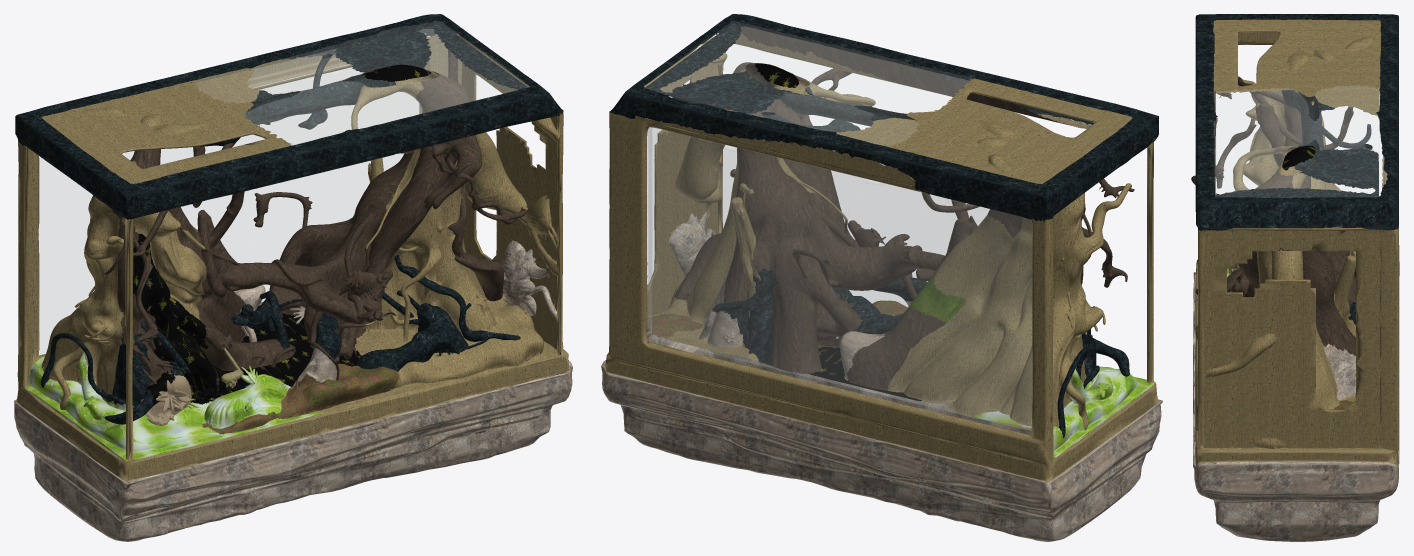
File: 生態箱.glb
The picture shows the model from 3 angles, left to right: view 1: azimuth 30°, elevation 25°; view 2: azimuth 150°, elevation 25°; view 3: azimuth 270°, elevation 25°; orthographic projection. The views are drawn at different scales.
Visible parts, largest first — view 1: tripo_part_0, tripo_part_2, tripo_part_1, tripo_part_9, tripo_part_5, tripo_part_7, tripo_part_42, tripo_part_6, tripo_part_3, tripo_part_18, tripo_part_11, tripo_part_35 (+32 smaller); view 2: tripo_part_1, tripo_part_31, tripo_part_0, tripo_part_3, tripo_part_40, tripo_part_2, tripo_part_49, tripo_part_9, tripo_part_42, tripo_part_18, tripo_part_7, tripo_part_16 (+25 smaller); view 3: tripo_part_7, tripo_part_2, tripo_part_0, tripo_part_9, tripo_part_1, tripo_part_42, tripo_part_6, tripo_part_52, tripo_part_65, tripo_part_18, tripo_part_5, tripo_part_17 (+9 smaller).
Part boxes in pixels (bbox=[...]): tripo_part_0: bbox=[14, 315, 572, 541]; tripo_part_2: bbox=[15, 14, 563, 219]; tripo_part_1: bbox=[16, 31, 568, 481]; tripo_part_9: bbox=[41, 58, 298, 183]; tripo_part_5: bbox=[355, 159, 543, 389]; tripo_part_7: bbox=[457, 59, 559, 353]; tripo_part_42: bbox=[253, 27, 514, 129]; tripo_part_6: bbox=[198, 23, 527, 146]; tripo_part_3: bbox=[41, 161, 197, 409]; tripo_part_18: bbox=[352, 71, 481, 315]; tripo_part_11: bbox=[133, 233, 361, 404]; tripo_part_35: bbox=[39, 151, 133, 354]; tripo_part_1: bbox=[605, 34, 1158, 481]; tripo_part_31: bbox=[647, 127, 862, 379]; tripo_part_0: bbox=[601, 326, 1162, 541]; tripo_part_3: bbox=[888, 183, 1131, 430]; tripo_part_40: bbox=[915, 192, 1031, 434]; tripo_part_2: bbox=[609, 14, 1158, 221]; tripo_part_49: bbox=[809, 179, 925, 405]; tripo_part_9: bbox=[836, 78, 1132, 183]; tripo_part_42: bbox=[659, 25, 912, 131]; tripo_part_18: bbox=[723, 62, 885, 303]; tripo_part_7: bbox=[635, 36, 736, 315]; tripo_part_16: bbox=[762, 233, 863, 373]; tripo_part_7: bbox=[1199, 227, 1379, 448]; tripo_part_2: bbox=[1195, 14, 1398, 231]; tripo_part_0: bbox=[1193, 272, 1399, 541]; tripo_part_9: bbox=[1213, 19, 1381, 118]; tripo_part_1: bbox=[1194, 155, 1399, 466]; tripo_part_42: bbox=[1214, 110, 1381, 191]; tripo_part_6: bbox=[1215, 90, 1378, 198]; tripo_part_52: bbox=[1215, 144, 1386, 197]; tripo_part_65: bbox=[1214, 86, 1379, 116]; tripo_part_18: bbox=[1238, 168, 1355, 355]; tripo_part_5: bbox=[1196, 251, 1379, 430]; tripo_part_17: bbox=[1243, 90, 1286, 185].
Size of the model in its own units: 0.9812 by 0.7846 by 0.4286.
11 materials, 10 textured.
